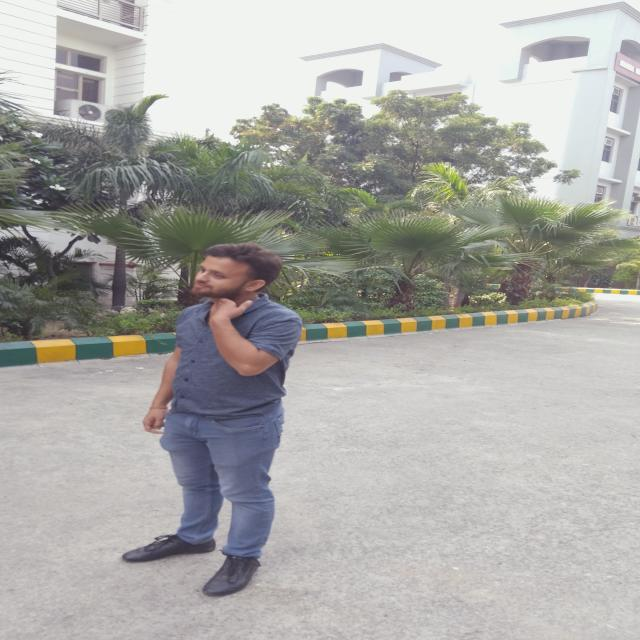unsafe: (132, 251, 293, 589)
